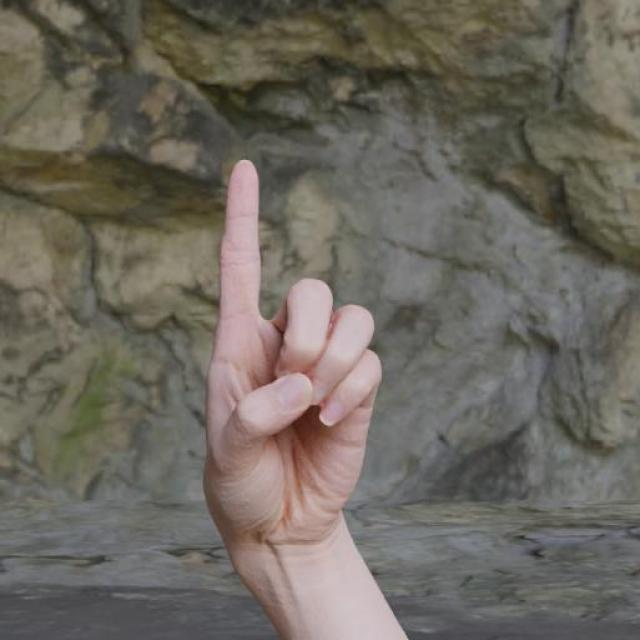D: (195, 154, 386, 577)
